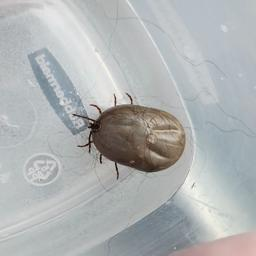Rhipicephalus sanguineus: (73, 92, 186, 180)
